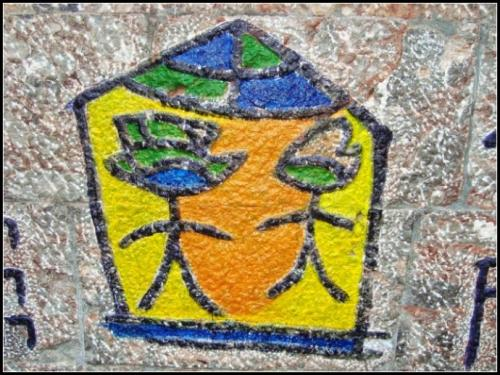naxi: (64, 15, 391, 365)
